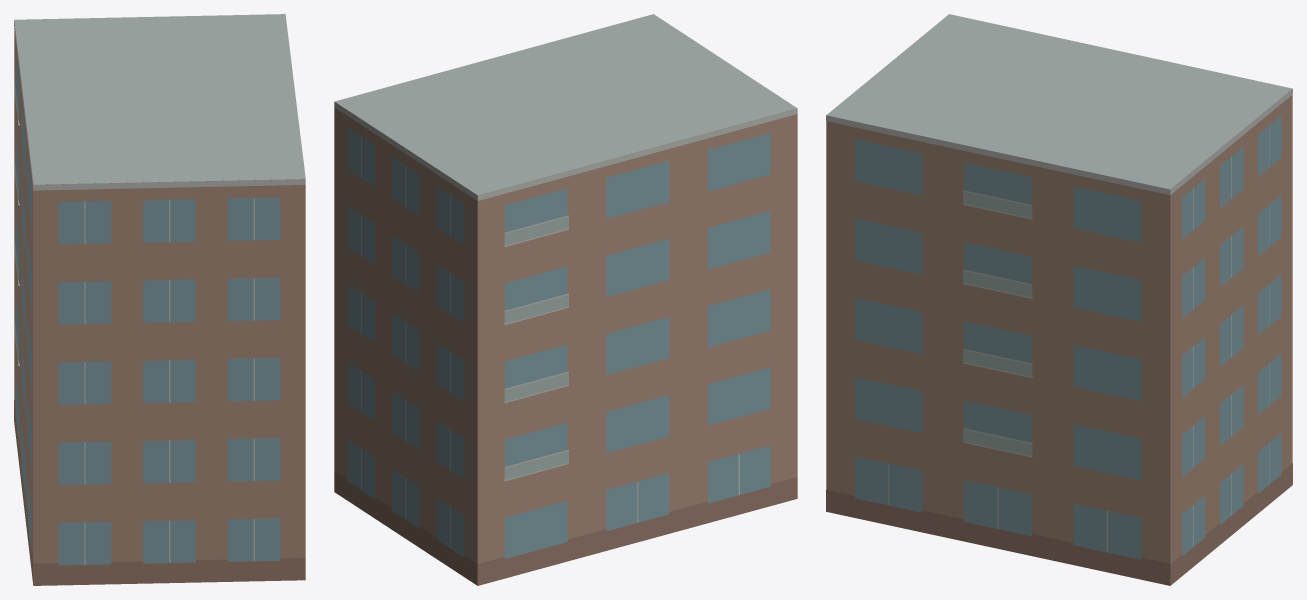
The model's file is survey-upis-32881259.glb.
3 views of the same model, side by side, from view 1: azimuth 30°, elevation 25°; view 2: azimuth 150°, elevation 25°; view 3: azimuth 270°, elevation 25° (orthographic). The views are drawn at different scales.
Visible parts, largest first — view 1: survey-upis-32881259.tmp; view 2: survey-upis-32881259.tmp; view 3: survey-upis-32881259.tmp.
Part boxes in pixels (left/top/right/bottom): survey-upis-32881259.tmp: left=14, top=14, right=305, bottom=585; survey-upis-32881259.tmp: left=334, top=14, right=797, bottom=585; survey-upis-32881259.tmp: left=826, top=14, right=1292, bottom=585.
Bounding box in the file's own units: 15.87 × 16.7 × 17.83.
